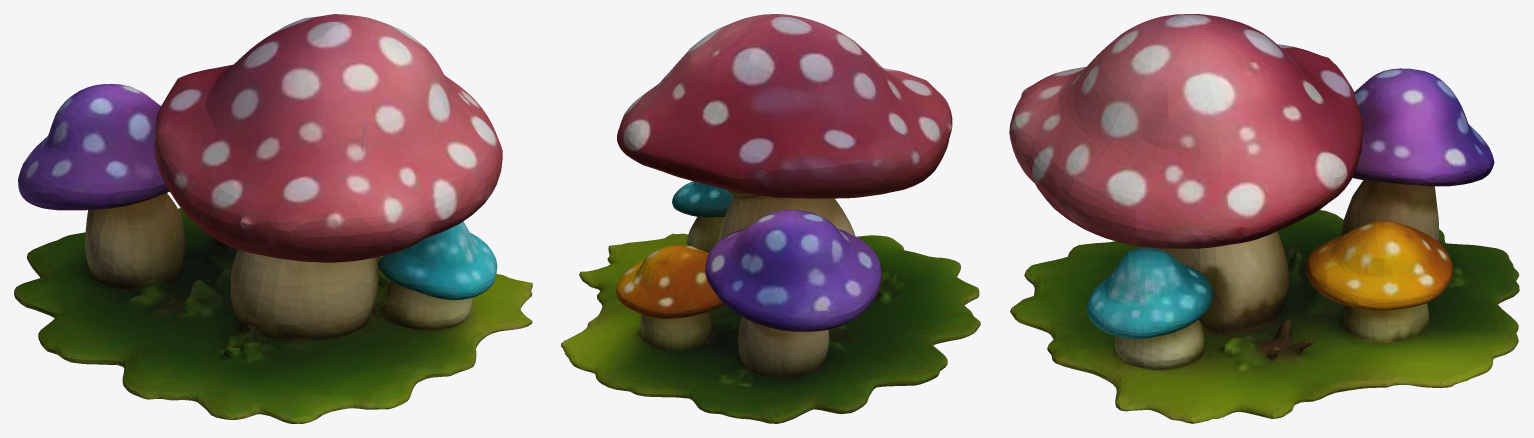
3 views of the same model, side by side, from view 1: azimuth 30°, elevation 25°; view 2: azimuth 150°, elevation 25°; view 3: azimuth 270°, elevation 25° (orthographic). The views are drawn at different scales.
Visible parts, largest first — view 1: world; view 2: world; view 3: world.
Part boxes in pixels (x1,y1,x2,y2): world: (14, 14, 532, 423); world: (561, 14, 980, 423); world: (1009, 14, 1519, 423).
Bounding box in the file's own units: 0.9753 × 0.6936 × 0.9972.
Materials: 1 (1 with a texture image).
